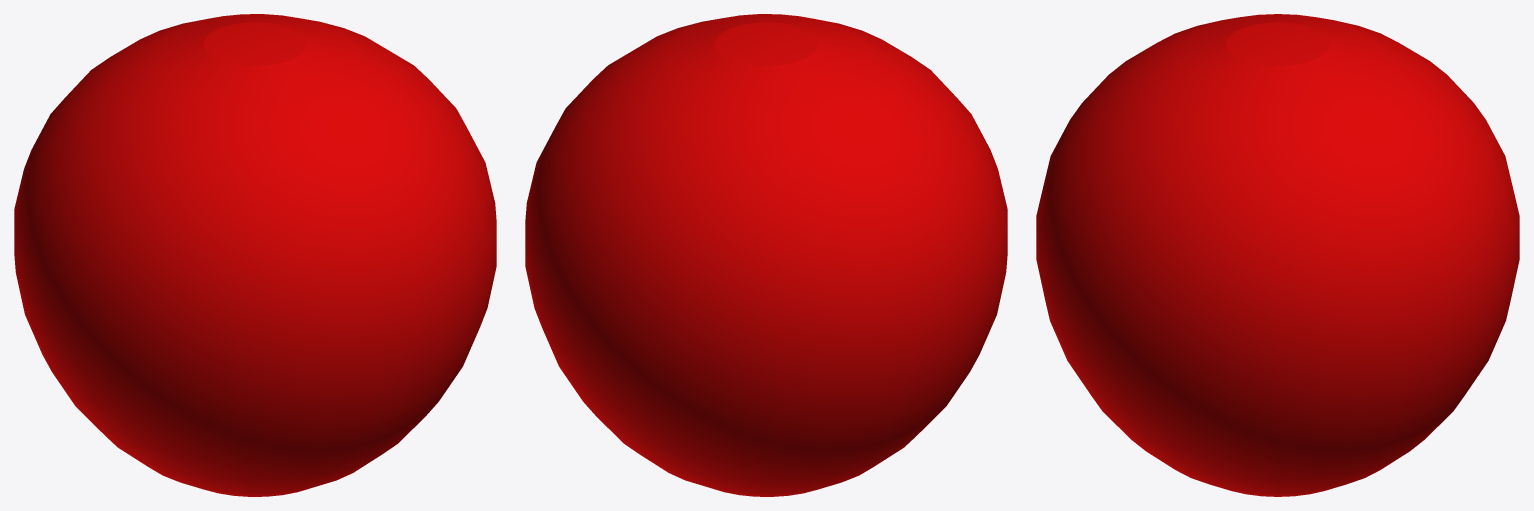
The model's file is Puffball_Growth.glb.
3 renders of one model, left to right at view 1: azimuth 30°, elevation 25°; view 2: azimuth 150°, elevation 25°; view 3: azimuth 270°, elevation 25°, orthographic.
Visible parts, largest first — view 1: Puffball; view 2: Puffball; view 3: Puffball.
Part boxes in pixels (x1=…): Puffball: x1=14, y1=14, x2=496, y2=496; Puffball: x1=525, y1=14, x2=1007, y2=496; Puffball: x1=1036, y1=14, x2=1519, y2=496.
Size of the model in its own units: 0.014 by 0.014 by 0.014.
